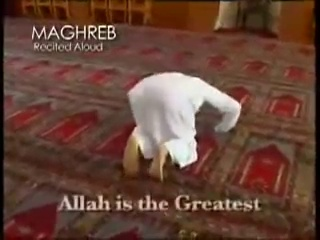sujud: (120, 72, 242, 177)
